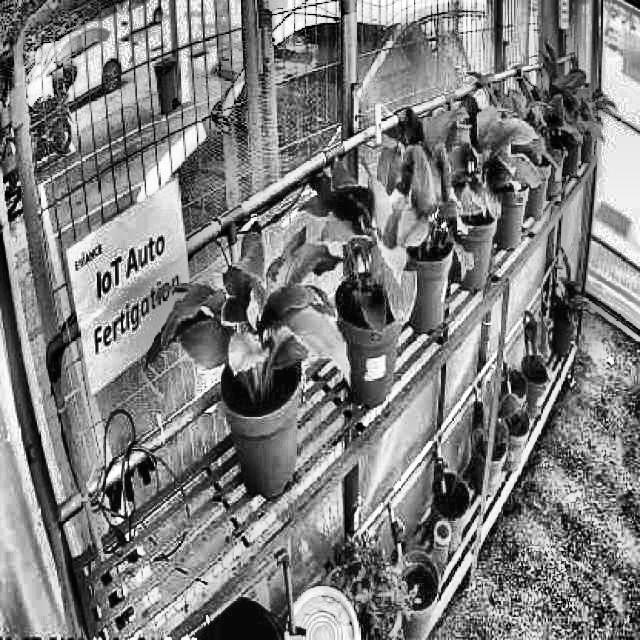plants: (144, 226, 353, 394), (304, 173, 418, 339), (366, 110, 472, 276), (429, 101, 546, 226)
